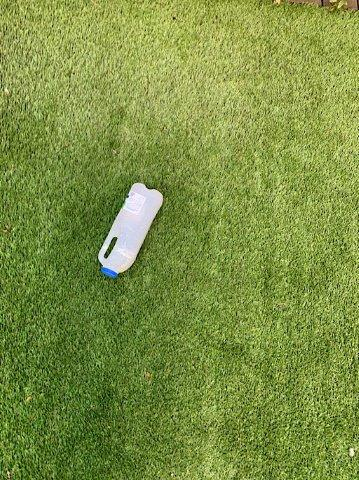botolplastik: (99, 184, 162, 276)
